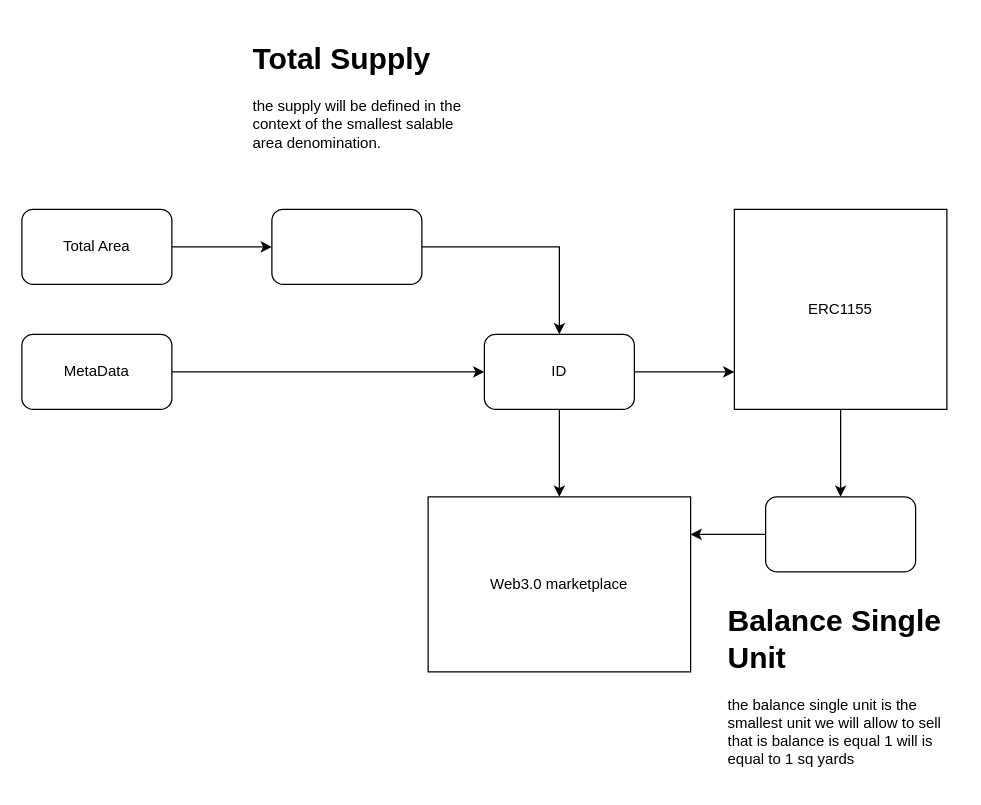
This 981x805 diagram has some shape labels left out. The centre of each missing label's shape, as x and y in pixels:
Balance: [840,534]
Total supply: [346,246]
